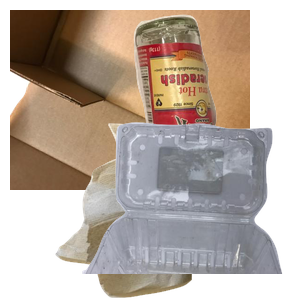cardboard: (10, 10, 250, 190)
glass: (131, 12, 300, 170)
plastic: (80, 120, 300, 300)
trash: (53, 121, 239, 300)
